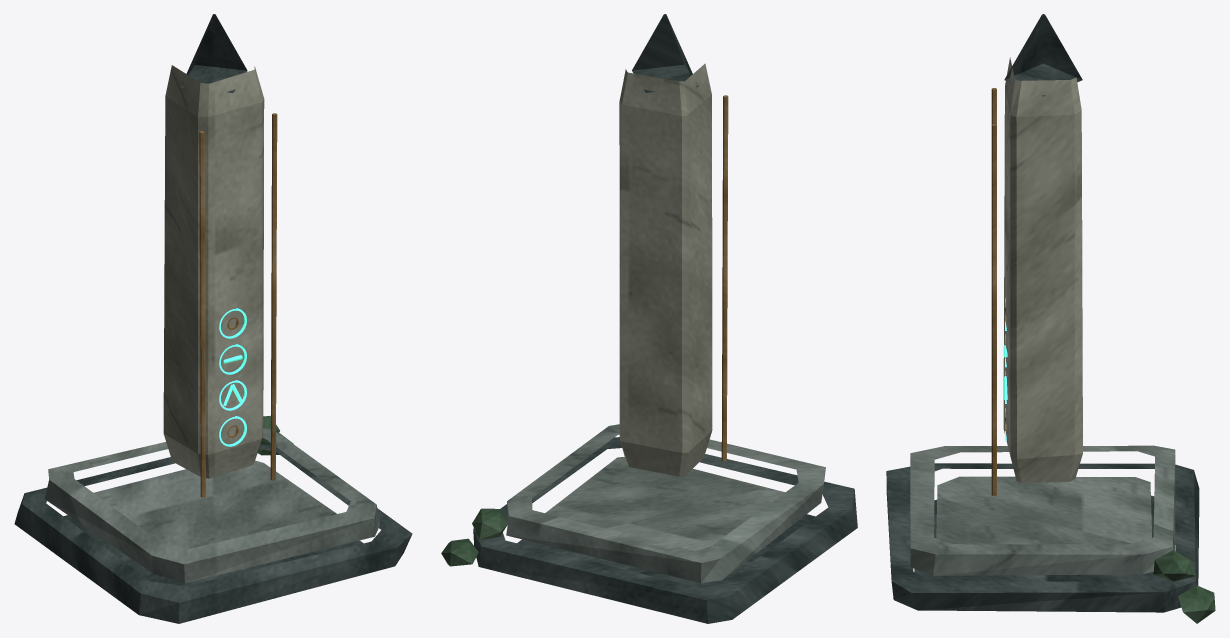
Rendered from 0484_obelisk_09.glb.
3 renders of one model, left to right at view 1: azimuth 30°, elevation 25°; view 2: azimuth 150°, elevation 25°; view 3: azimuth 270°, elevation 25°, orthographic.
Parts seen in each view (by area): view 1: stone_light, stone, stone_dark, brass, glow; view 2: stone_light, stone, stone_dark, brass, moss; view 3: stone_light, stone, stone_dark, brass, moss.
Boxes of the visible parts, box(x1,y1,x2,y2) form: stone_light: box(163, 65, 264, 478); stone: box(44, 428, 379, 583); stone_dark: box(14, 14, 412, 623); brass: box(199, 113, 277, 497); glow: box(219, 308, 246, 446); stone_light: box(619, 63, 712, 476); stone: box(506, 424, 825, 583); stone_dark: box(473, 14, 857, 623); brass: box(721, 95, 728, 461); moss: box(441, 508, 508, 566); stone_light: box(1003, 57, 1082, 482); stone: box(910, 445, 1175, 575); stone_dark: box(886, 14, 1199, 612); brass: box(991, 88, 1006, 495); moss: box(1153, 550, 1215, 623).
Bounding box in the file's own units: 2.02 × 3.62 × 2.01.
Materials: 6 (6 with a texture image).
